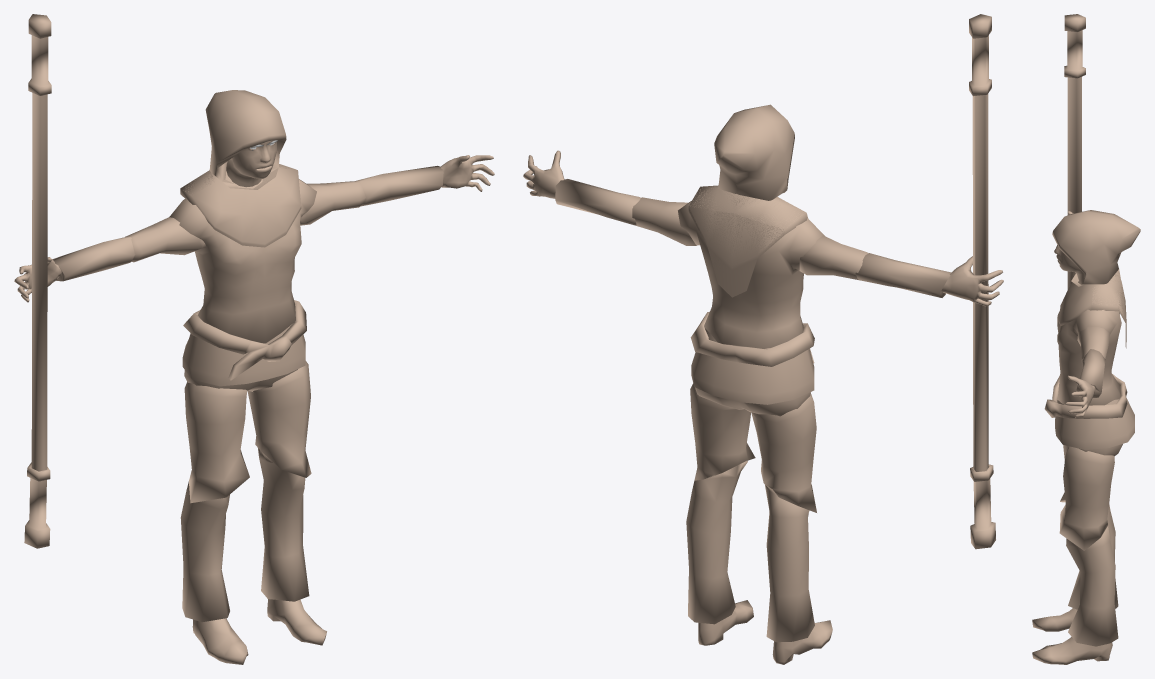
File: exorcist.dae
3 renders of one model, left to right at view 1: azimuth 30°, elevation 25°; view 2: azimuth 150°, elevation 25°; view 3: azimuth 270°, elevation 25°, orthographic. The views are drawn at different scales.
Visible parts, largest first — view 1: torso, staff, pelvis, head, thighright, kneeleft, kneeright, thighleft, forearmleft, forearmright, armright, footright (+4 smaller); view 2: torso, staff, pelvis, kneeleft, head, kneeright, thighright, thighleft, forearmright, forearmleft, armright, armleft (+4 smaller); view 3: torso, head, thighleft, kneeleft, pelvis, staff, footleft, forearmleft, armleft, handleft, footright, kneeright.
Part boxes in pixels (x1,y1,x2,y2): torso: (169, 164, 316, 343); staff: (24, 14, 51, 548); pelvis: (182, 300, 306, 391); head: (205, 90, 286, 189); thighright: (184, 382, 249, 503); kneeleft: (258, 448, 309, 601); kneeright: (180, 481, 229, 622); thighleft: (247, 361, 311, 477); forearmleft: (354, 165, 443, 206); forearmright: (53, 237, 135, 281); armright: (125, 217, 206, 262); footright: (192, 618, 248, 664); torso: (678, 185, 824, 348); staff: (969, 14, 995, 549); pelvis: (690, 312, 814, 416); kneeleft: (686, 460, 747, 624); head: (714, 104, 794, 200); kneeright: (765, 485, 814, 642); thighright: (751, 393, 816, 512); thighleft: (690, 383, 755, 480); forearmright: (855, 253, 951, 297); forearmleft: (555, 179, 640, 225); armright: (799, 235, 868, 280); armleft: (632, 197, 696, 245); torso: (1057, 269, 1126, 405); head: (1052, 210, 1140, 286); thighleft: (1059, 446, 1114, 550); kneeleft: (1066, 526, 1118, 646); pelvis: (1044, 374, 1134, 455); staff: (1064, 14, 1085, 289); footleft: (1032, 637, 1112, 664); forearmleft: (1076, 349, 1105, 397); armleft: (1077, 326, 1109, 359); handleft: (1065, 375, 1095, 417); footright: (1032, 608, 1077, 631); kneeright: (1068, 504, 1118, 609).
Bounding box in the file's own units: 42.24 × 10.42 × 57.23.
